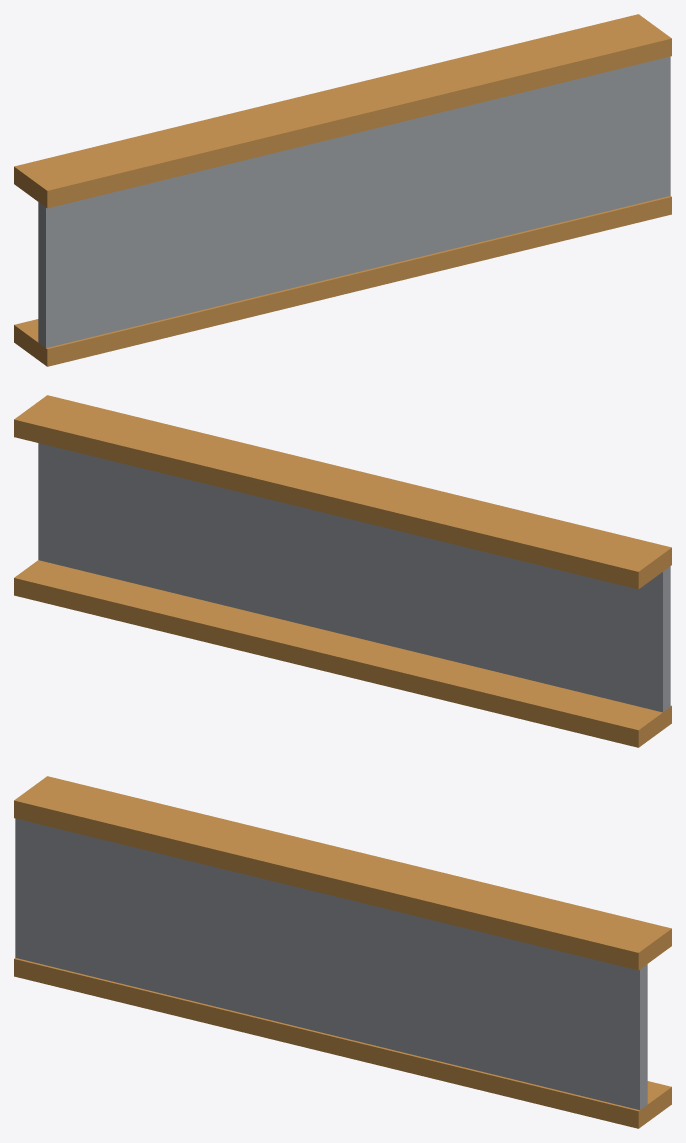
The model's file is SM_RackShelf.glb.
3 views of the same model, one above another, from view 1: azimuth 30°, elevation 25°; view 2: azimuth 150°, elevation 25°; view 3: azimuth 330°, elevation 25° (orthographic).
Visible parts, largest first — view 1: part_02, part_01, part_00; view 2: part_02, part_01, part_00; view 3: part_02, part_01, part_00.
Part boxes in pixels (bbox=[...]): part_02: bbox=[38, 56, 670, 347]; part_01: bbox=[14, 14, 671, 208]; part_00: bbox=[14, 196, 671, 366]; part_02: bbox=[38, 443, 670, 712]; part_01: bbox=[14, 395, 671, 589]; part_00: bbox=[14, 560, 671, 747]; part_02: bbox=[15, 818, 647, 1109]; part_01: bbox=[14, 776, 671, 970]; part_00: bbox=[14, 958, 671, 1128].
Size of the model in its own units: 4 by 1.08 by 0.3703.
